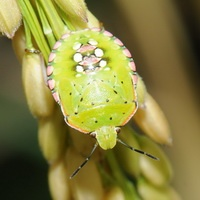insect: (23, 28, 144, 149)
